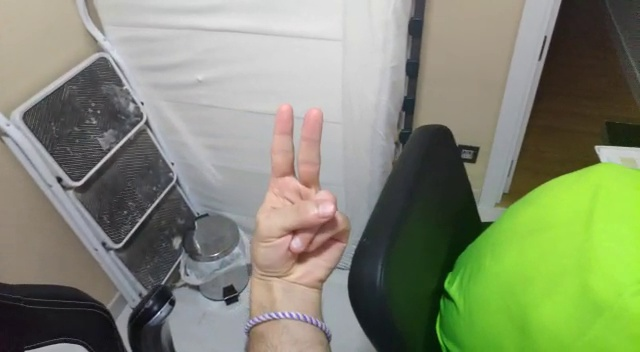Peace: (244, 96, 350, 286)
